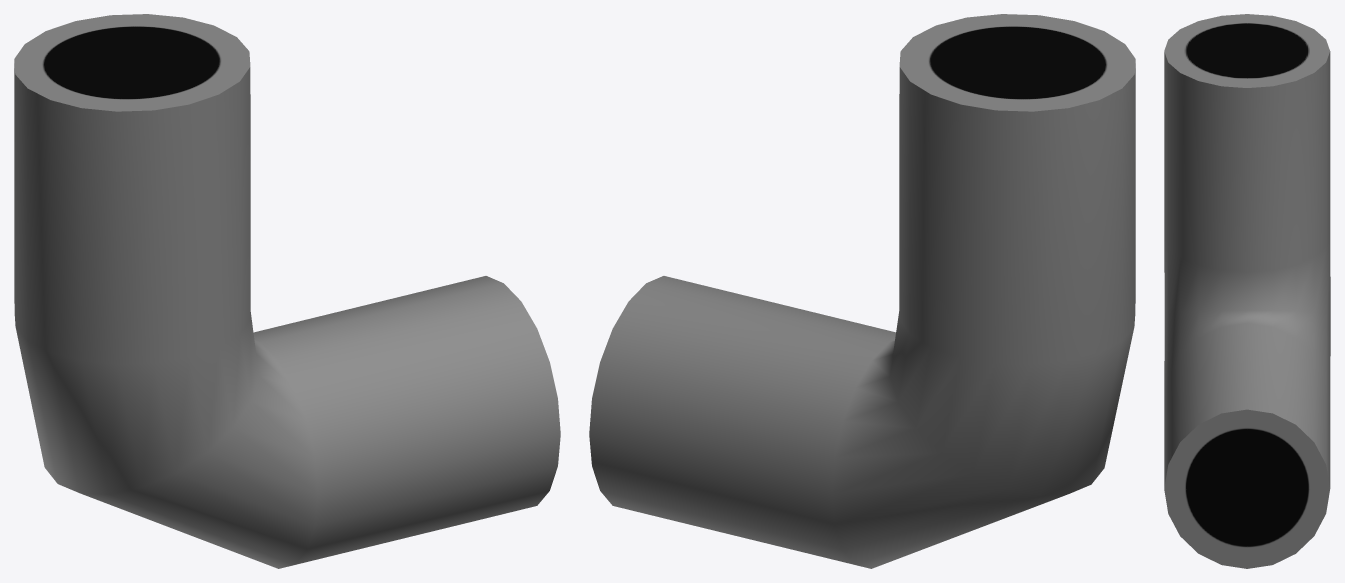
The model's file is pipe_corner.fbx.
The picture shows the model from 3 angles, left to right: view 1: azimuth 30°, elevation 25°; view 2: azimuth 150°, elevation 25°; view 3: azimuth 270°, elevation 25°; orthographic projection. The views are drawn at different scales.
Parts seen in each view (by area): view 1: pipe_corner; view 2: pipe_corner; view 3: pipe_corner.
Boxes of the visible parts, box(x1,y1,x2,y2) form: pipe_corner: box(14, 14, 560, 568); pipe_corner: box(589, 14, 1135, 568); pipe_corner: box(1164, 14, 1330, 568).
Bounding box in the file's own units: 6.82 × 7.26 × 2.84.
